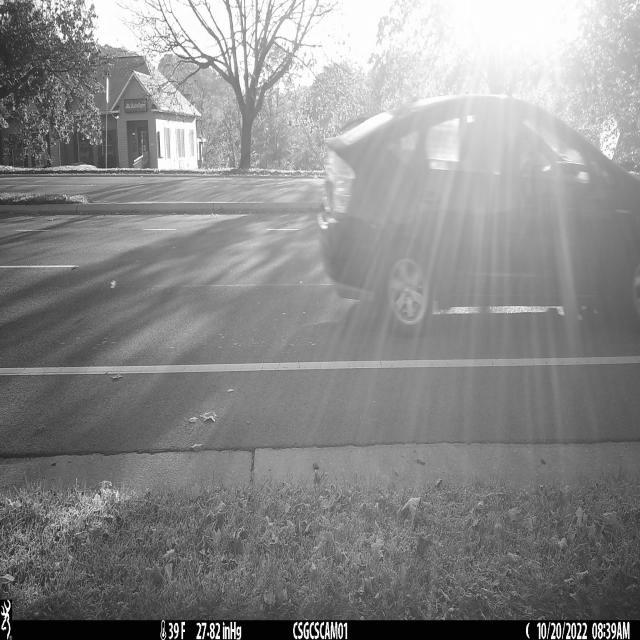Hatchback: (318, 96, 640, 338)
